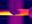Hotspot: (0, 10, 12, 15)
